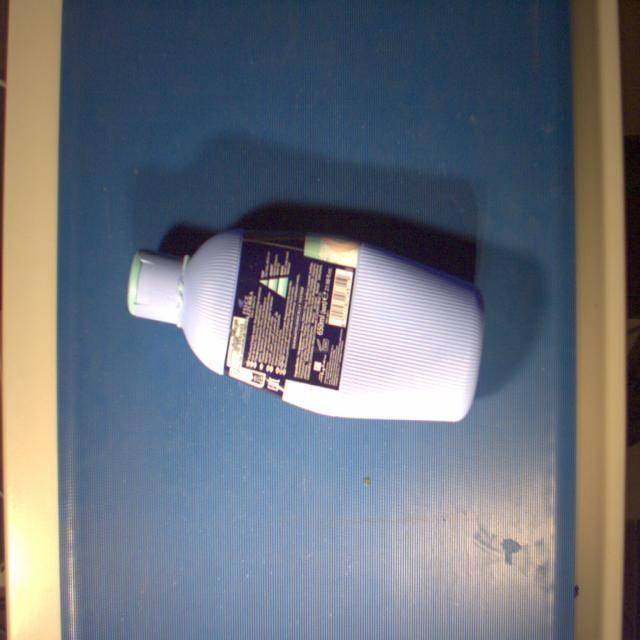HDPE Plastic: (122, 220, 488, 426)
